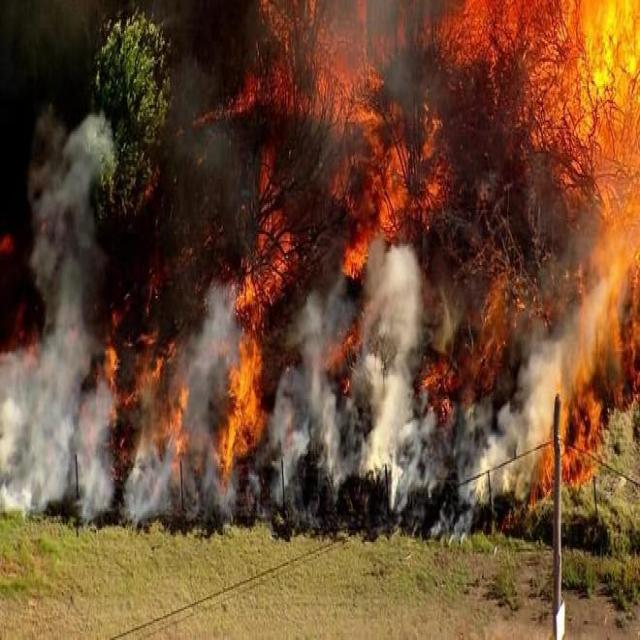Fire: (583, 10, 639, 96), (227, 342, 262, 468), (564, 399, 606, 476)
Smoke: (2, 328, 88, 516), (358, 250, 422, 478), (188, 296, 236, 466), (490, 348, 564, 458)
